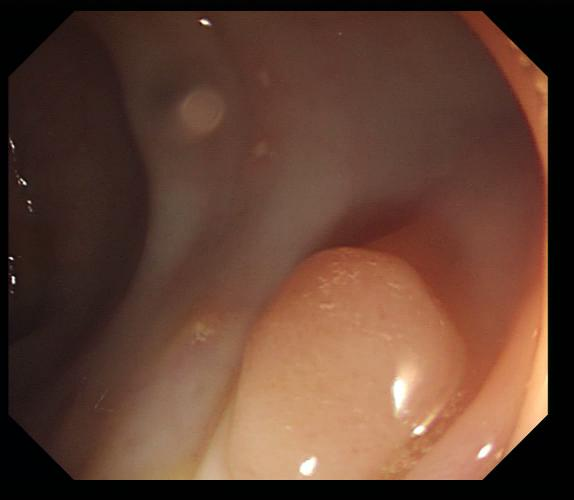polyp: (225, 244, 471, 476), (171, 310, 226, 358)
